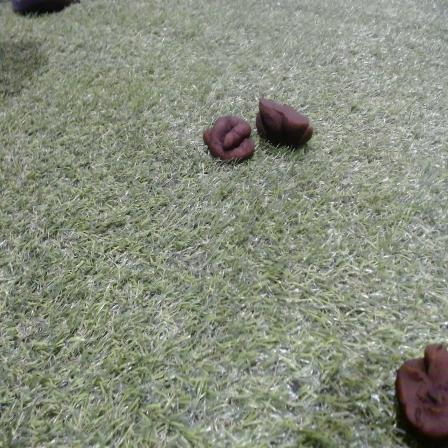dog-poop: (200, 93, 314, 172), (387, 342, 448, 435)
